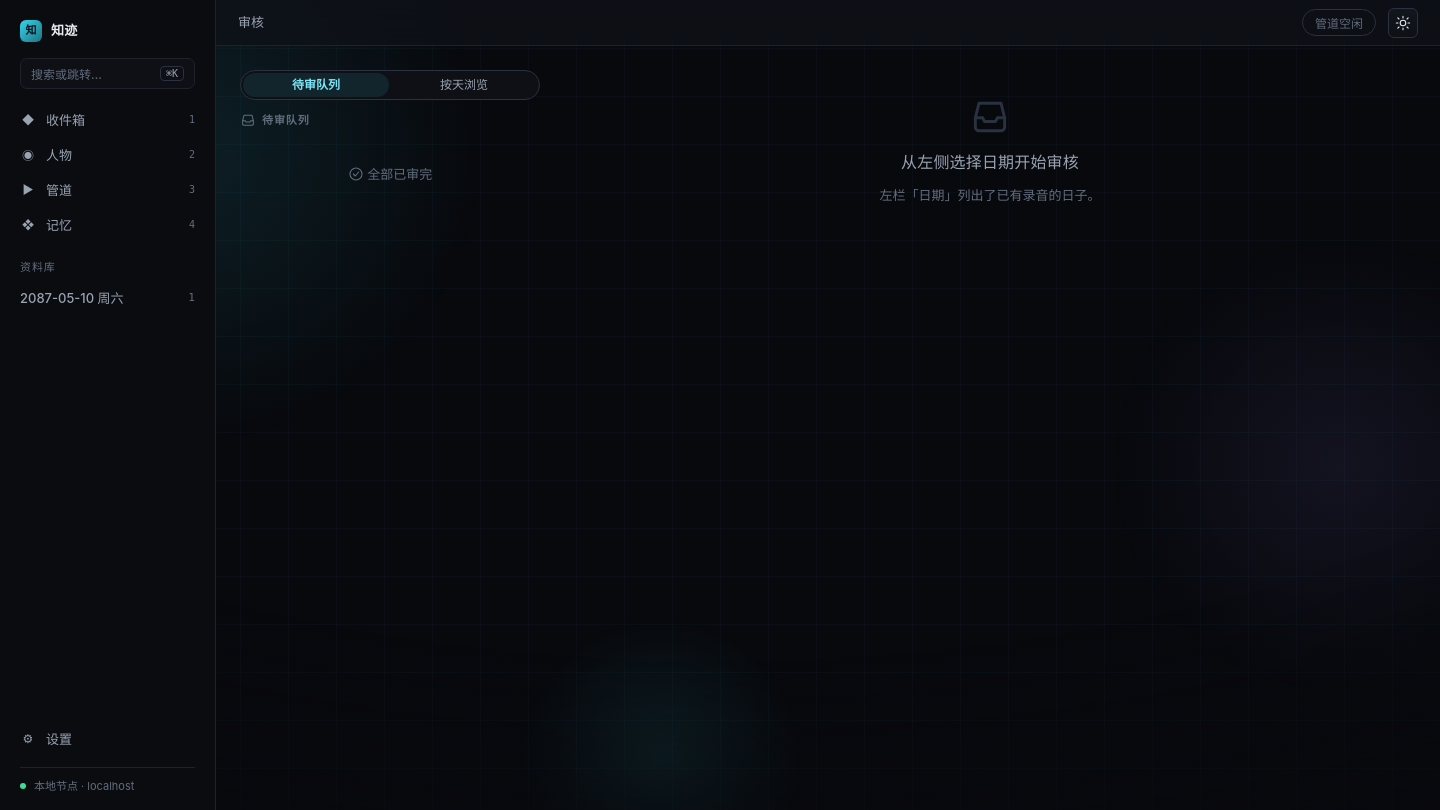
Test: App container › matches the current review session against the voiceprint library and refreshes labels
Click the tab "按天浏览" at [464, 85], box left=391, top=73, right=537, bottom=97
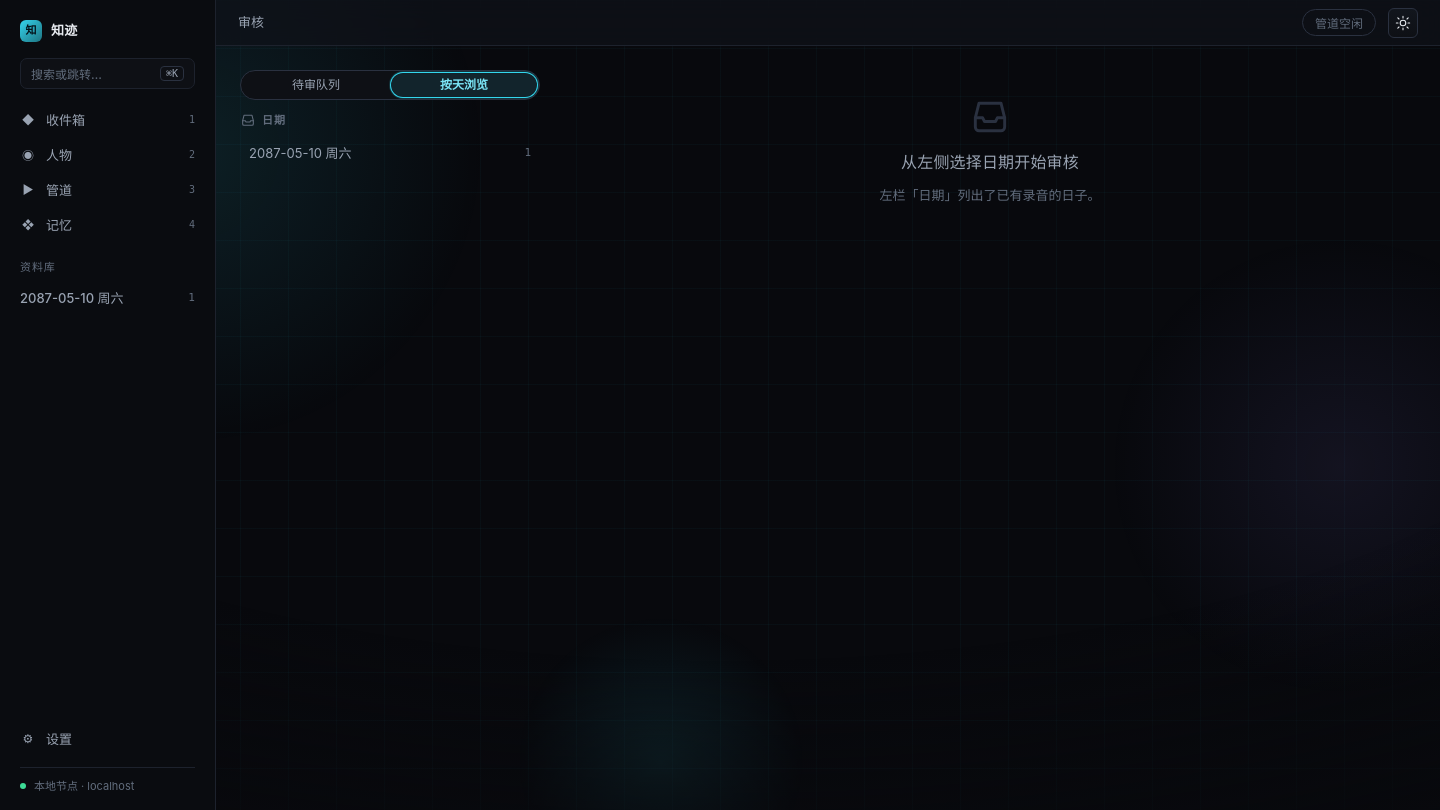
Click the button "2087-05-10 周六 1" in the row of "从左侧选择日期开始审核" at [300, 152], box left=240, top=136, right=540, bottom=170
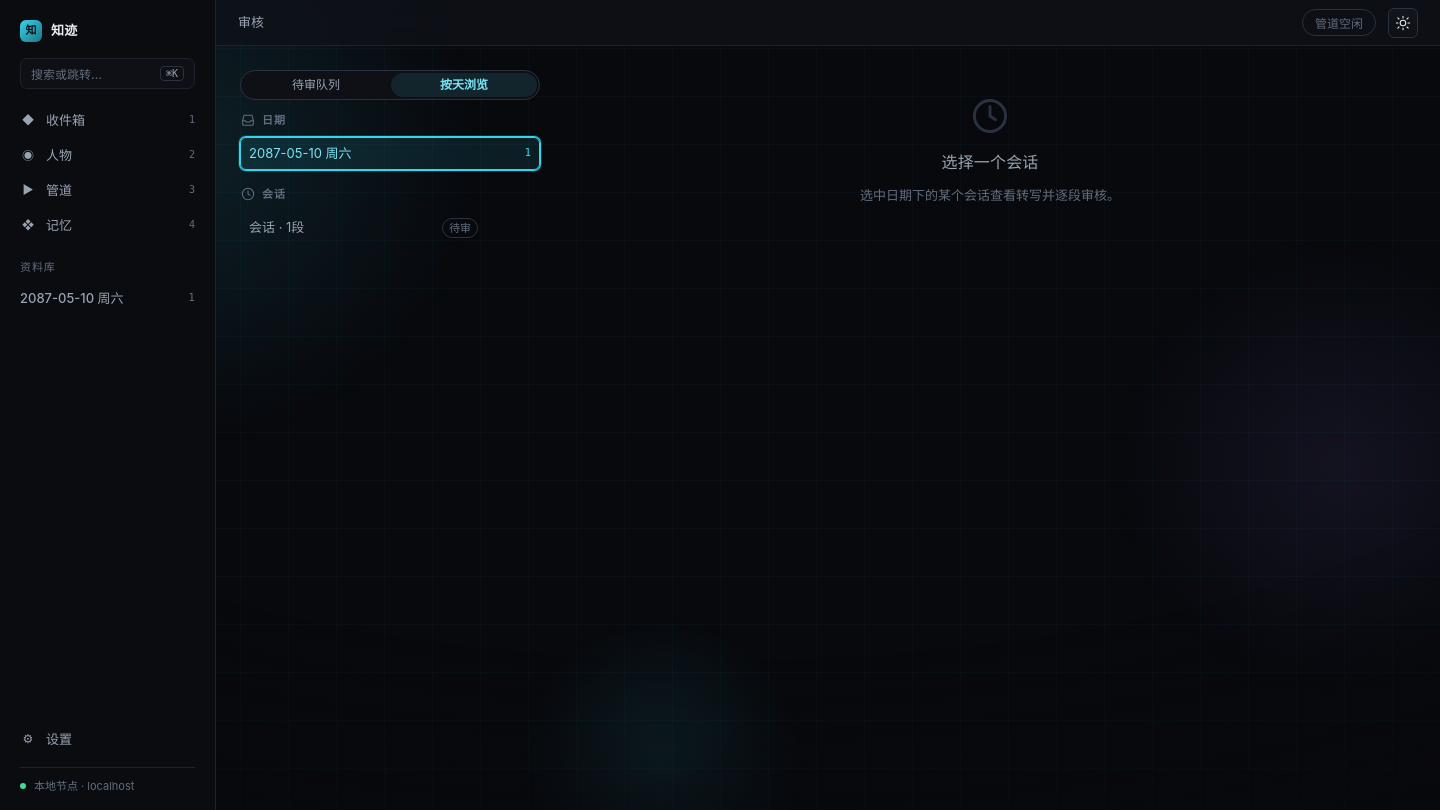
Click the button with aria-label "ses_1" at [364, 228], box left=240, top=210, right=487, bottom=245
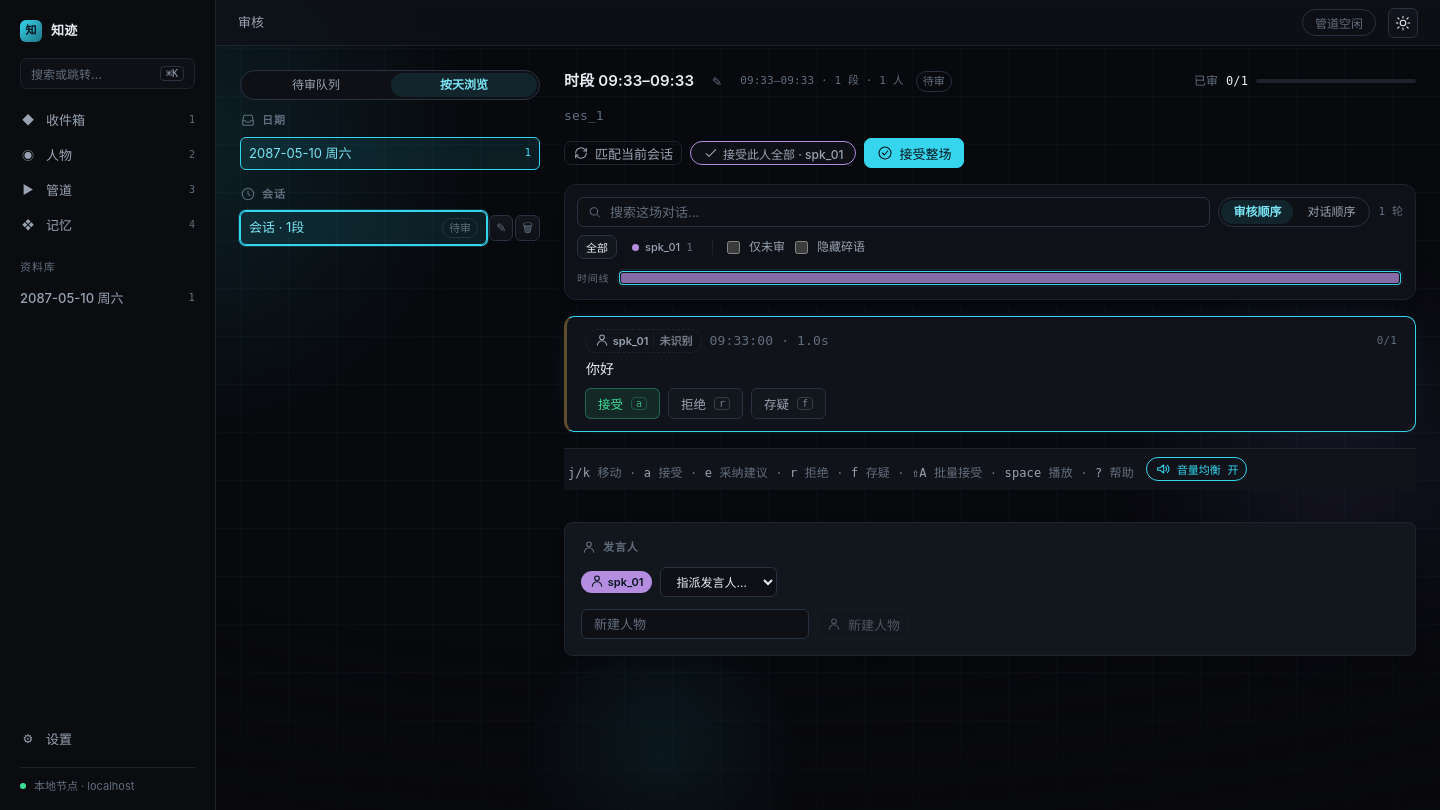
Now the button "接受此人全部 · spk_01" is shown, box left=690, top=141, right=856, bottom=165
Click the button "匹配当前会话" at [623, 153], box left=564, top=141, right=682, bottom=165
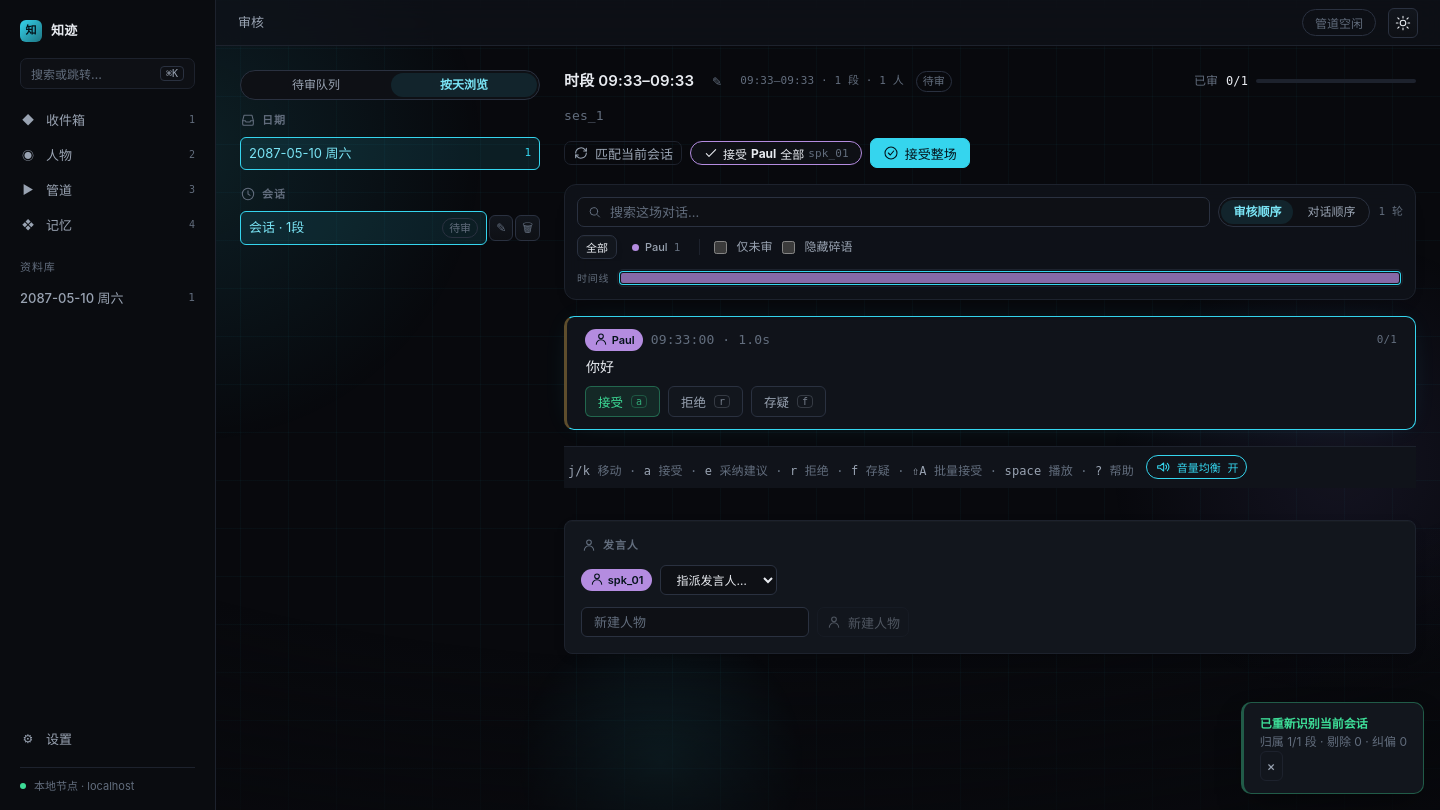
Now the button "接受 Paul 全部 spk_01" is shown, box left=690, top=141, right=862, bottom=165
